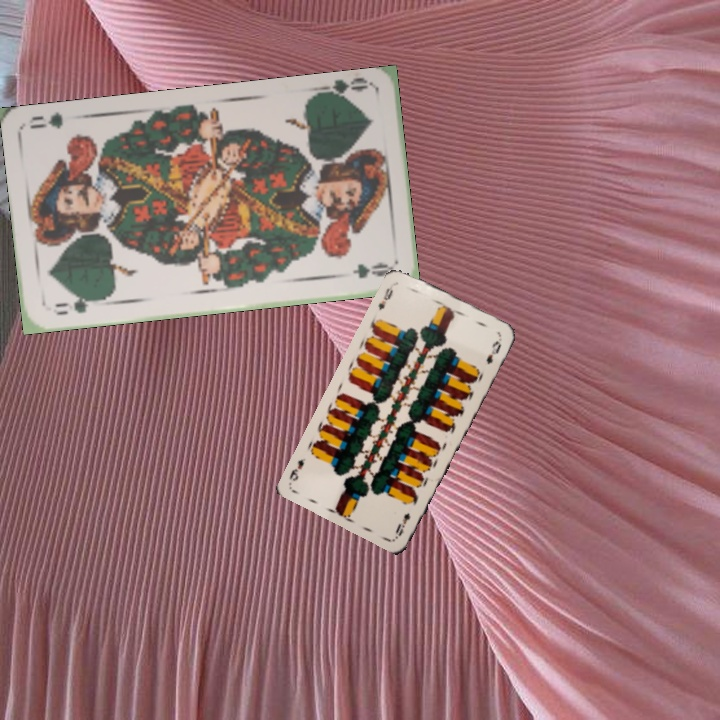E9: (374, 279, 398, 313), (391, 509, 413, 539)
GO: (313, 75, 372, 104), (51, 293, 104, 318)
